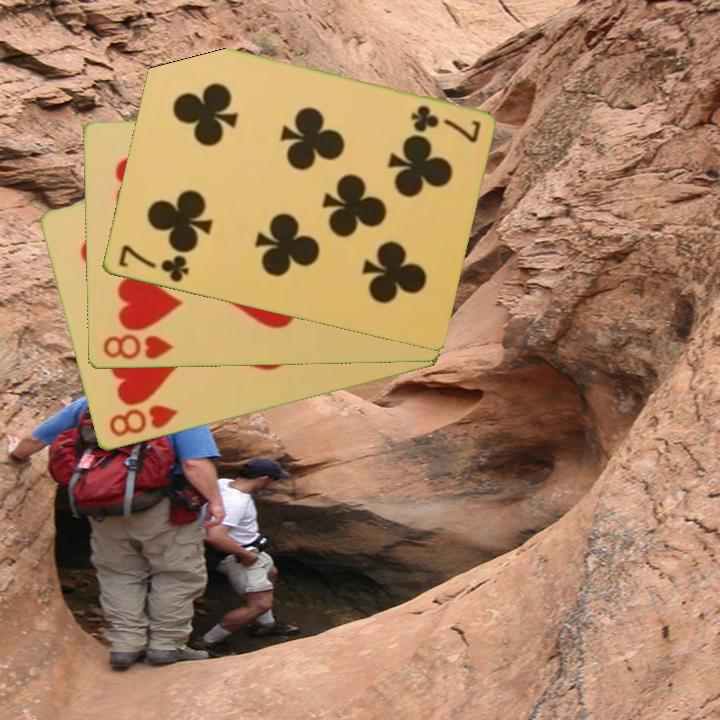7c: (114, 241, 191, 286), (407, 102, 483, 145)
8h: (105, 401, 181, 440), (99, 331, 176, 363)
